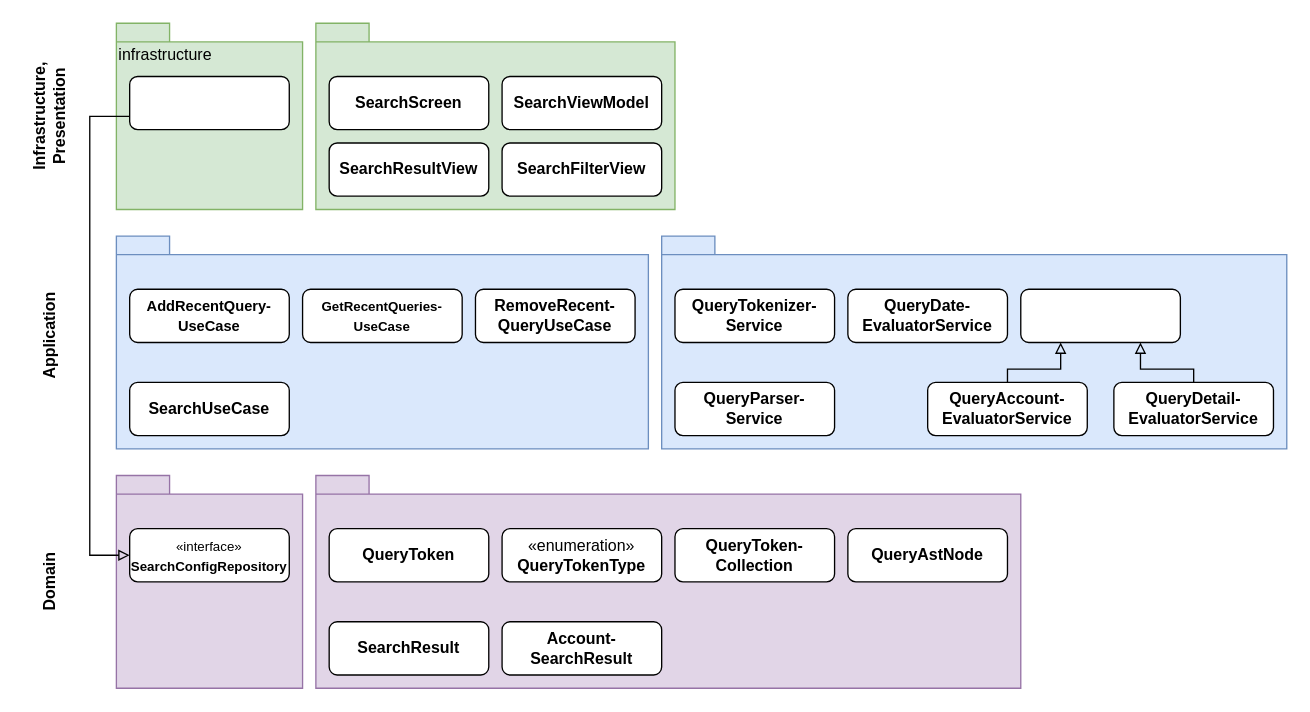
The diagram is 1310 pixels wide and 712 high, and some of its shapes have lost their labels. Here are the shapes that lost their labels. From the top down, the box of each, then its label:
(128, 75, 289, 130): AndroidSearch-ConfigRepository
(315, 22, 675, 209): presentation
(1019, 288, 1180, 342): «interface» QueryEvaluatorService
(115, 235, 648, 449): usecases
(660, 235, 1287, 449): services
(115, 474, 303, 688): repositories
(315, 474, 1021, 688): entities
